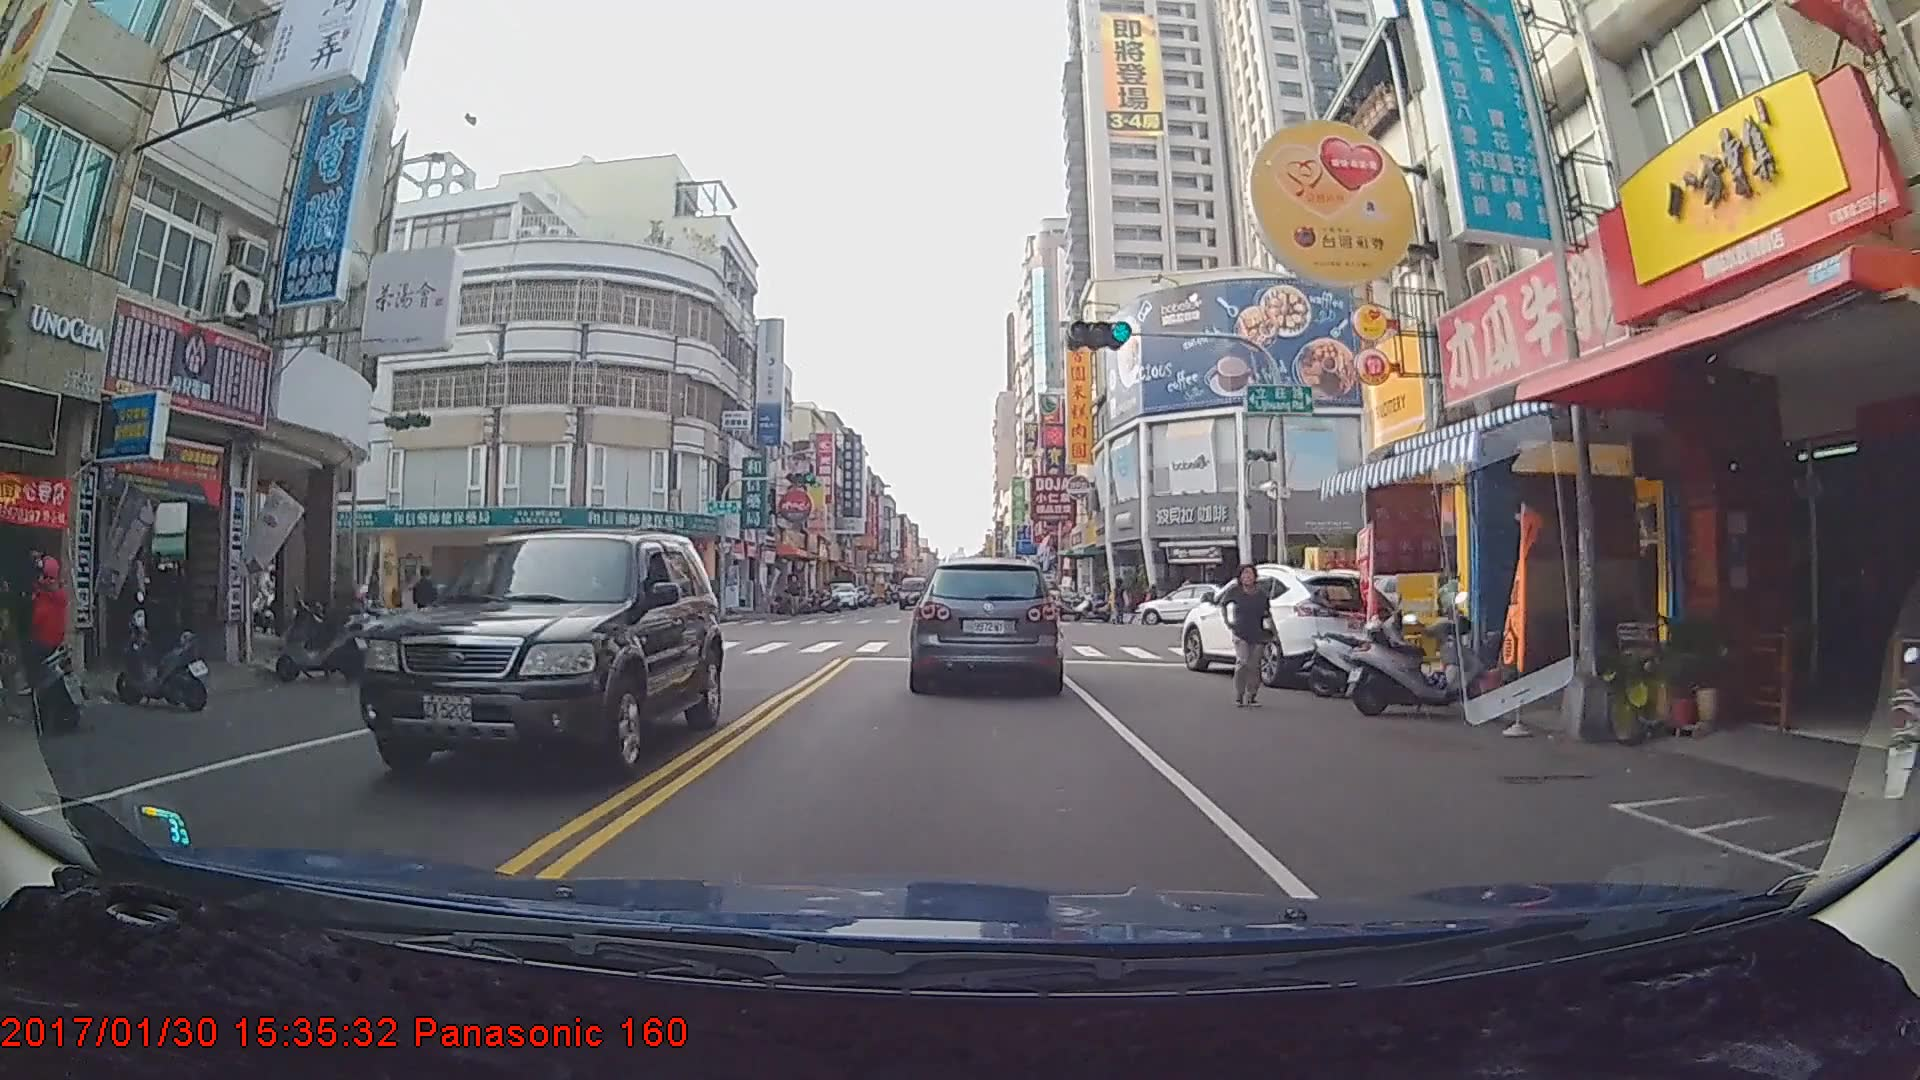pedestrian: (1226, 564, 1282, 715), (412, 567, 444, 650)
rider: (0, 551, 86, 736)
vehicle: (349, 527, 722, 785), (1180, 562, 1407, 687), (910, 556, 1061, 693), (1131, 582, 1254, 624), (896, 578, 928, 611), (822, 580, 859, 609)
